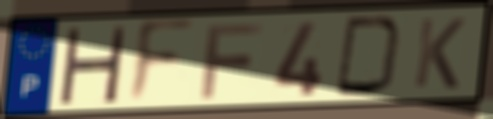4: (270, 17, 326, 98)
D: (333, 15, 407, 98)
F: (125, 16, 198, 110), (197, 21, 267, 101)
H: (55, 26, 130, 105)
K: (410, 16, 468, 92)
